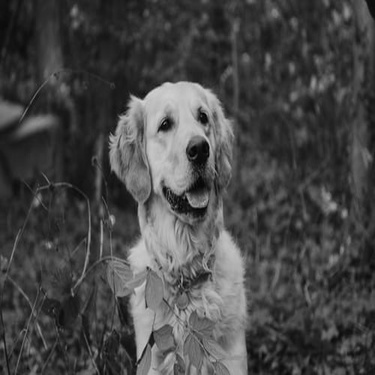dog: (102, 75, 251, 373)
